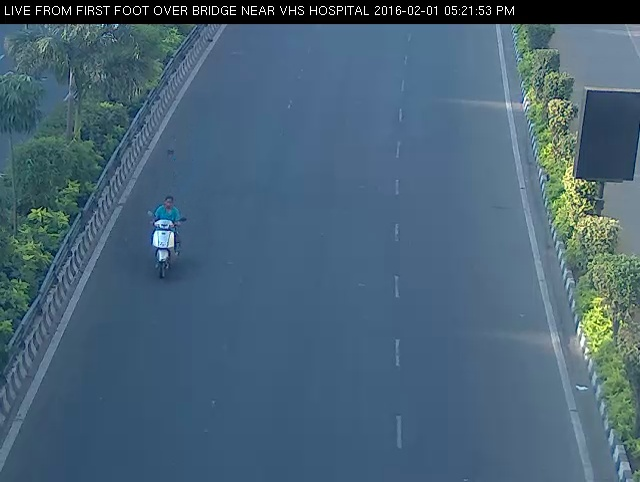Person: (141, 186, 192, 289)
